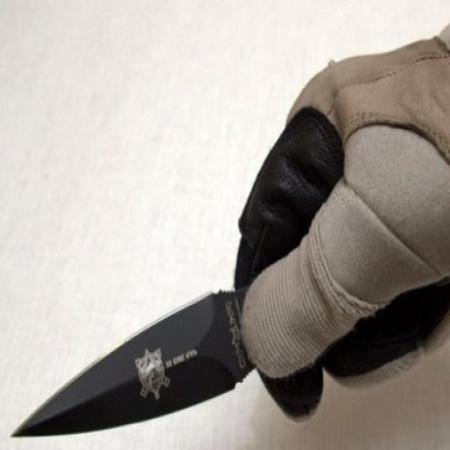long weapon: (9, 273, 293, 444)
